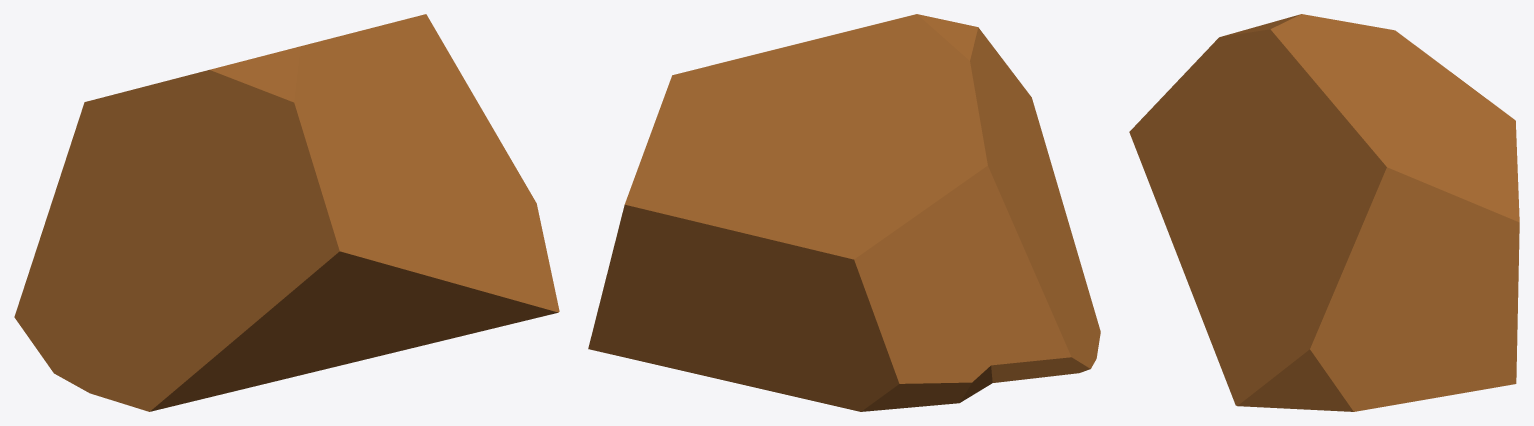
File: HardRock_57.fbx
The picture shows the model from 3 angles, left to right: view 1: azimuth 30°, elevation 25°; view 2: azimuth 150°, elevation 25°; view 3: azimuth 270°, elevation 25°; orthographic projection. The views are drawn at different scales.
Parts seen in each view (by area): view 1: HardRock_57; view 2: HardRock_57; view 3: HardRock_57.
Boxes of the visible parts, x1,y1,x2,y2 form: HardRock_57: (14, 14, 559, 411); HardRock_57: (588, 14, 1100, 411); HardRock_57: (1129, 14, 1519, 411).
Size of the model in its own units: 207 by 126 by 163.
